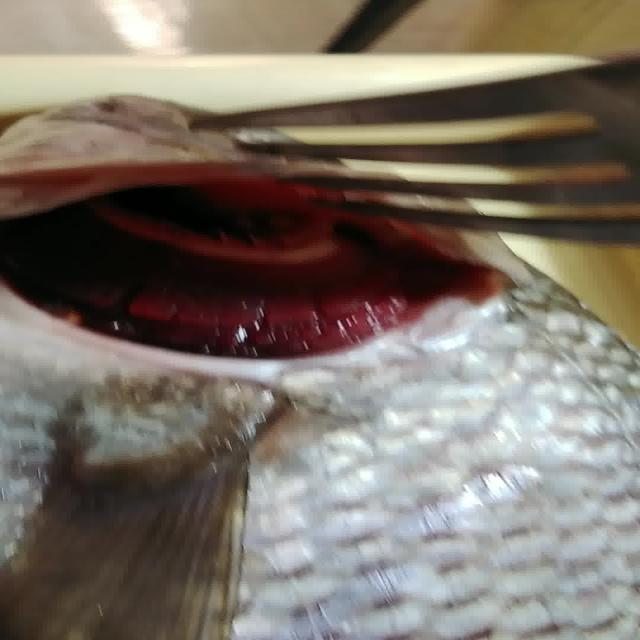Fresh: (8, 171, 454, 366)
